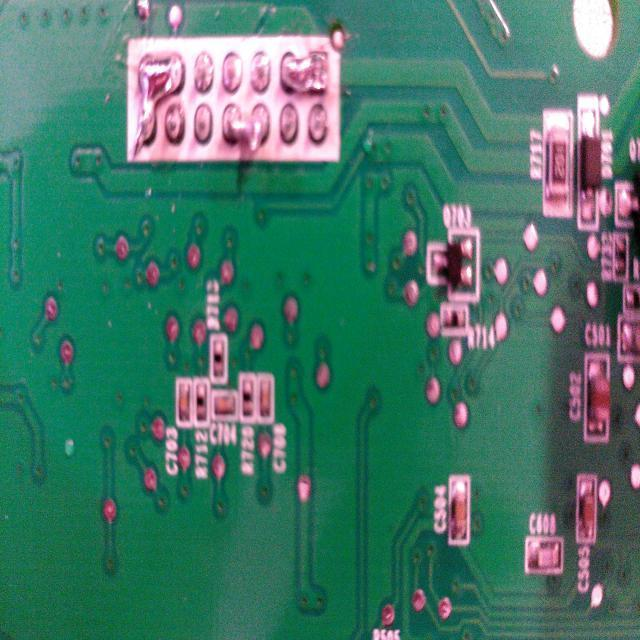Soldering shorted: (132, 46, 186, 157), (278, 44, 332, 99), (219, 102, 271, 154)
